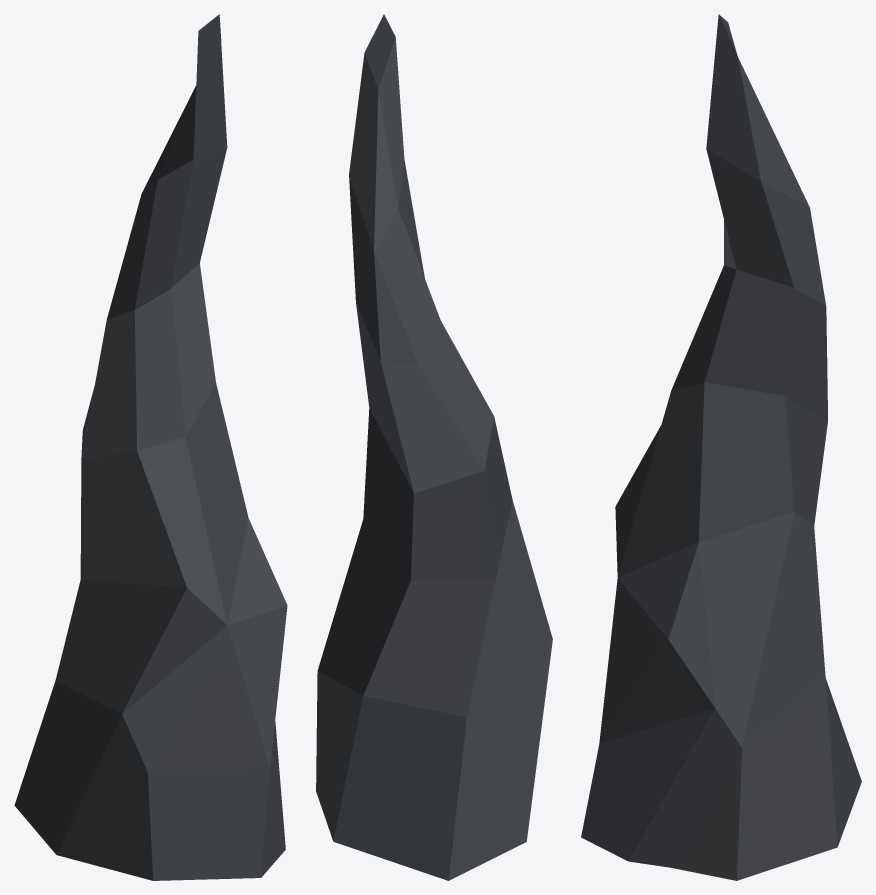
File: Stalagmite_Tall.fbx
3 renders of one model, left to right at view 1: azimuth 30°, elevation 25°; view 2: azimuth 150°, elevation 25°; view 3: azimuth 270°, elevation 25°, orthographic. The views are drawn at different scales.
Visible parts, largest first — view 1: Stalagmite_Tall; view 2: Stalagmite_Tall; view 3: Stalagmite_Tall.
Boxes of the visible parts, x1,y1,x2,y2 form: Stalagmite_Tall: (14,14,287,880); Stalagmite_Tall: (316,14,552,880); Stalagmite_Tall: (581,14,861,880).
Size of the model in its own units: 60.2 by 215 by 65.55.
